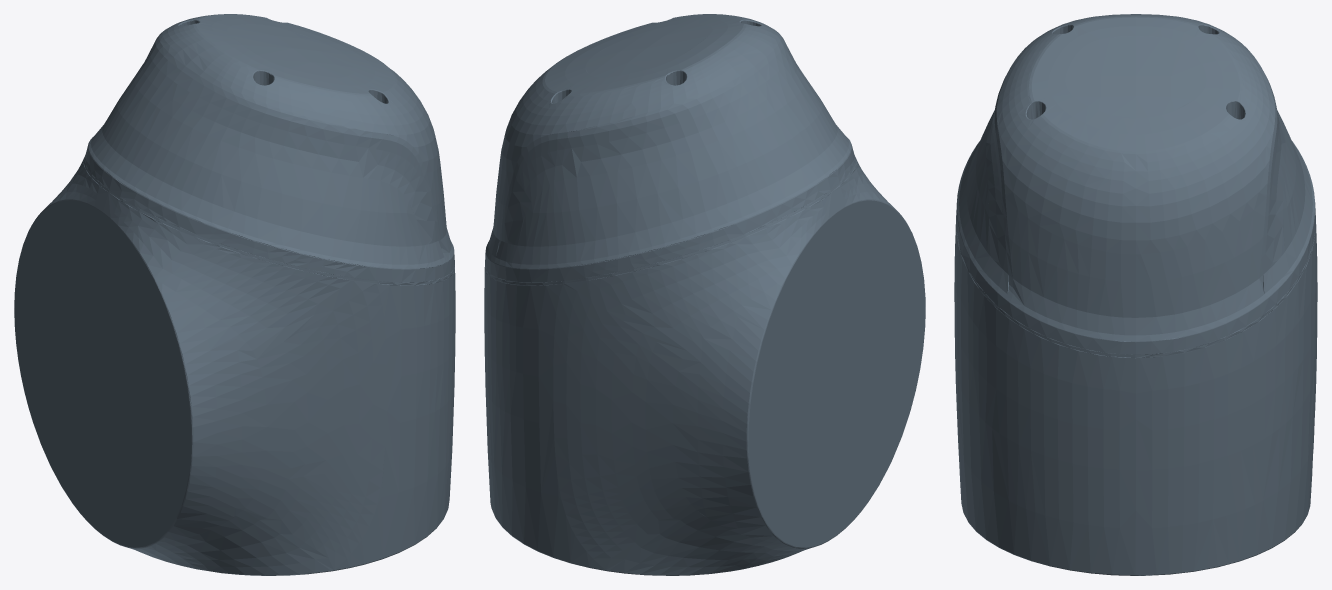
The picture shows the model from 3 angles, left to right: view 1: azimuth 30°, elevation 25°; view 2: azimuth 150°, elevation 25°; view 3: azimuth 270°, elevation 25°; orthographic projection. The views are drawn at different scales.
Visible parts, largest first — view 1: A0912_2_3; view 2: A0912_2_3; view 3: A0912_2_3.
Part boxes in pixels (x1,y1,x2,y2): A0912_2_3: (14,14,455,575); A0912_2_3: (484,14,925,575); A0912_2_3: (954,14,1317,575).
Bounding box in the file's own units: 125 × 122 × 170.
